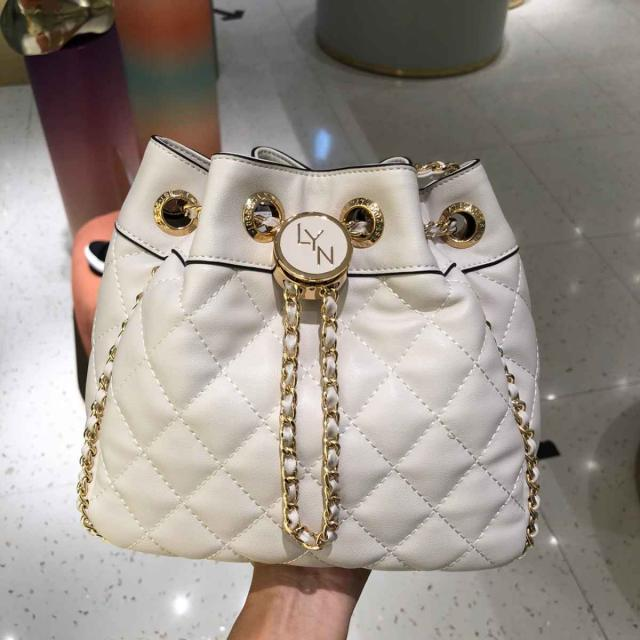Handbag: (77, 131, 544, 574)
